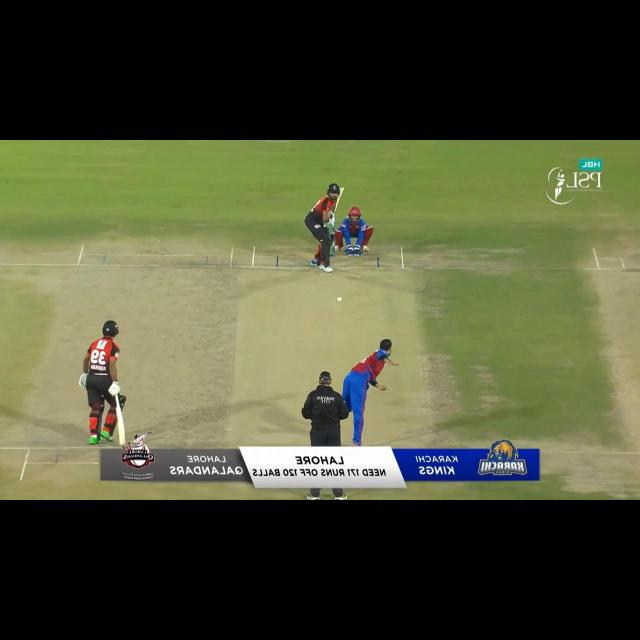bat: (114, 409, 127, 445), (331, 185, 346, 214)
toe: (336, 186, 346, 195), (118, 439, 126, 445)
